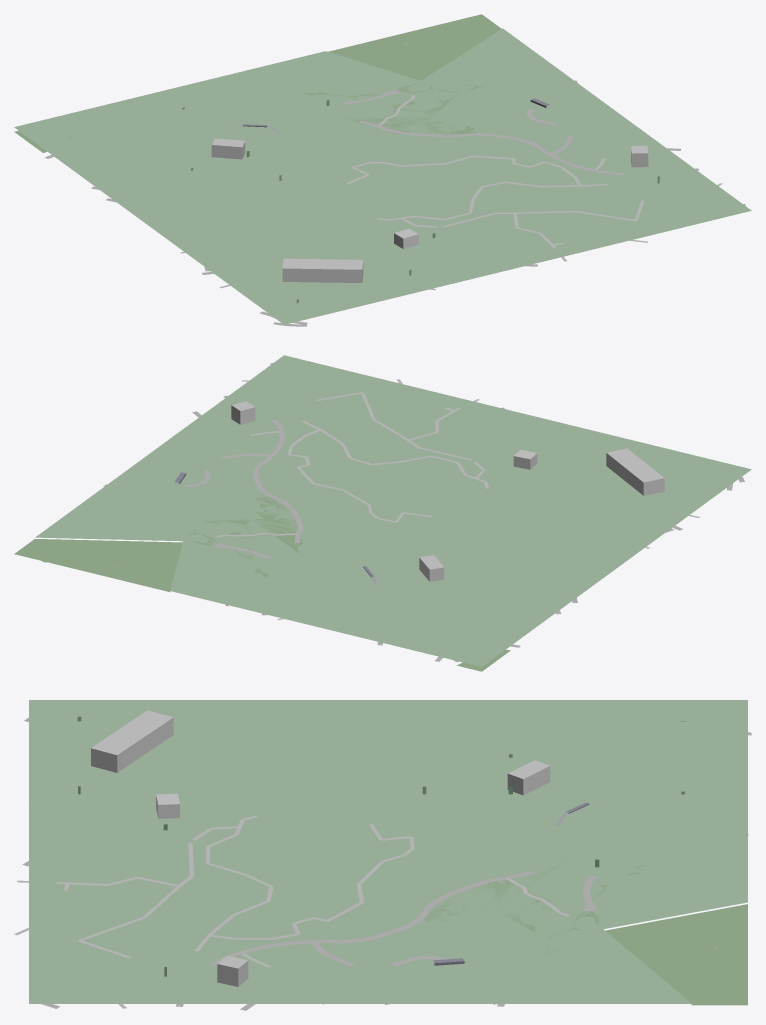
3 renders of one model, top to bottom at view 1: azimuth 30°, elevation 25°; view 2: azimuth 150°, elevation 25°; view 3: azimuth 270°, elevation 25°, orthographic. The views are drawn at different scales.
Size of the model in its own units: 518 by 19.82 by 513.
